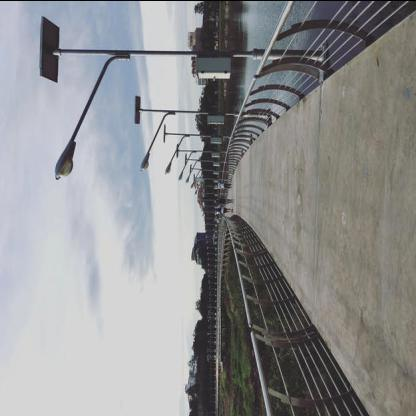off: (114, 99, 222, 200), (44, 75, 102, 192)
